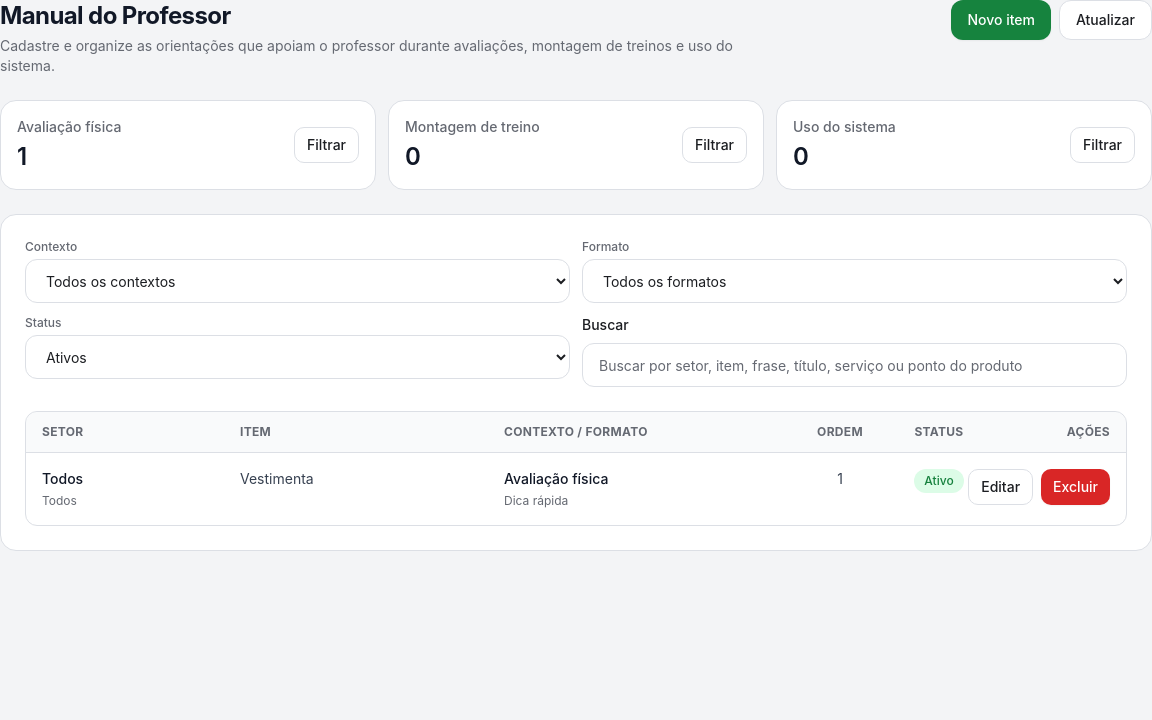
Test case: SettingsProfessorManual › abre priorizando a lista e substitui a listagem pelo editor ao criar
Expected: the table is shown, [26,412,1126,525]
Click the button "Novo item": (1001, 20) [951,0,1051,40]
(page scrolled)
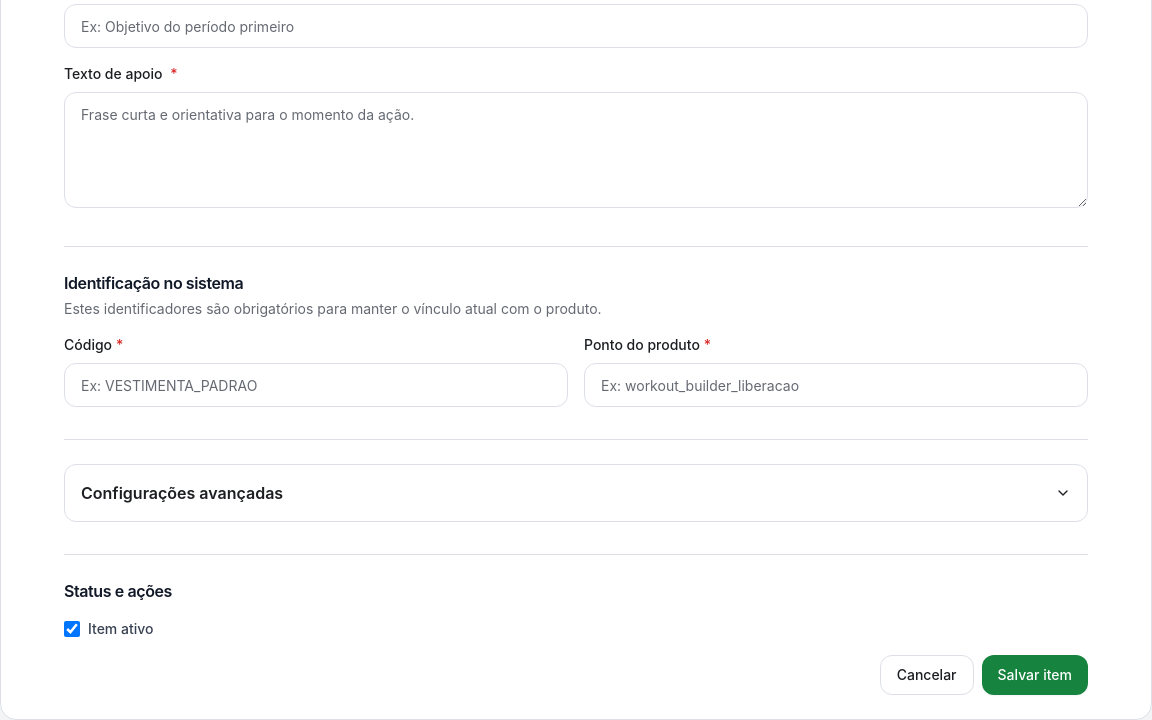
Result: the table is gone
Result: the field labelled "Código*" is shown at [64,363,568,407]
Result: the field labelled "Ponto do produto*" is shown at [584,363,1088,407]
